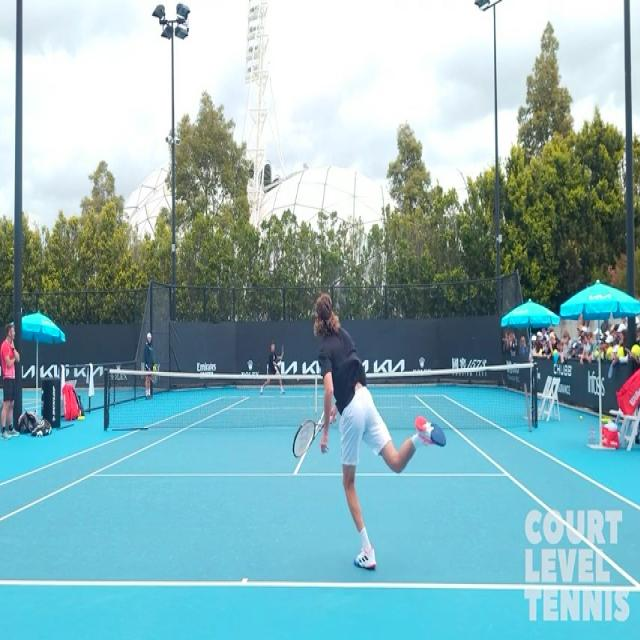serve_followthrough: (296, 274, 438, 570)
